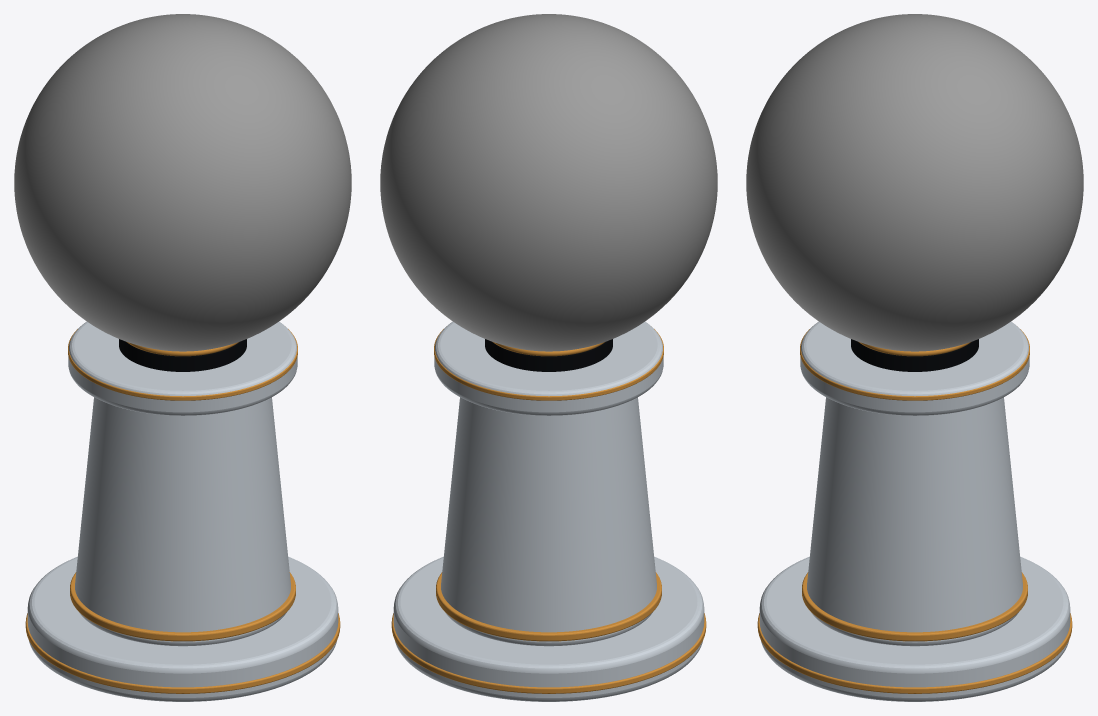
File: showcase_model.obj
The picture shows the model from 3 angles, left to right: view 1: azimuth 30°, elevation 25°; view 2: azimuth 150°, elevation 25°; view 3: azimuth 270°, elevation 25°; orthographic projection.
Parts seen in each view (by area): view 1: Showcase_Chrome_Sphere, Pedestal_Tapered_Column, Pedestal_Base, Pedestal_Top_Cap, Pedestal_Lower_Gold_Collar, Pedestal_Foot_Gold_Band, Sphere_Graphite_Socket, Pedestal_Upper_Gold_Band; view 2: Showcase_Chrome_Sphere, Pedestal_Tapered_Column, Pedestal_Base, Pedestal_Top_Cap, Pedestal_Lower_Gold_Collar, Pedestal_Foot_Gold_Band, Sphere_Graphite_Socket, Pedestal_Upper_Gold_Band; view 3: Showcase_Chrome_Sphere, Pedestal_Tapered_Column, Pedestal_Base, Pedestal_Top_Cap, Pedestal_Lower_Gold_Collar, Pedestal_Foot_Gold_Band, Sphere_Graphite_Socket, Pedestal_Upper_Gold_Band.
Boxes of the visible parts, x1,y1,x2,y2 form: Showcase_Chrome_Sphere: [14, 14, 351, 351]; Pedestal_Tapered_Column: [75, 397, 290, 646]; Pedestal_Base: [27, 556, 338, 701]; Pedestal_Top_Cap: [68, 321, 297, 415]; Pedestal_Lower_Gold_Collar: [70, 572, 295, 641]; Pedestal_Foot_Gold_Band: [25, 613, 340, 693]; Sphere_Graphite_Socket: [119, 339, 246, 371]; Pedestal_Upper_Gold_Band: [68, 329, 297, 400]; Showcase_Chrome_Sphere: [380, 14, 717, 351]; Pedestal_Tapered_Column: [441, 397, 656, 646]; Pedestal_Base: [393, 556, 704, 701]; Pedestal_Top_Cap: [434, 321, 663, 415]; Pedestal_Lower_Gold_Collar: [436, 572, 661, 641]; Pedestal_Foot_Gold_Band: [391, 613, 706, 693]; Sphere_Graphite_Socket: [485, 339, 612, 371]; Pedestal_Upper_Gold_Band: [434, 329, 663, 400]; Showcase_Chrome_Sphere: [746, 14, 1083, 351]; Pedestal_Tapered_Column: [807, 397, 1022, 646]; Pedestal_Base: [759, 556, 1070, 701]; Pedestal_Top_Cap: [800, 321, 1029, 415]; Pedestal_Lower_Gold_Collar: [802, 572, 1027, 641]; Pedestal_Foot_Gold_Band: [757, 613, 1072, 693]; Sphere_Graphite_Socket: [851, 339, 978, 371]; Pedestal_Upper_Gold_Band: [800, 329, 1029, 400].
Bounding box in the file's own units: 1 × 1.99 × 1.
